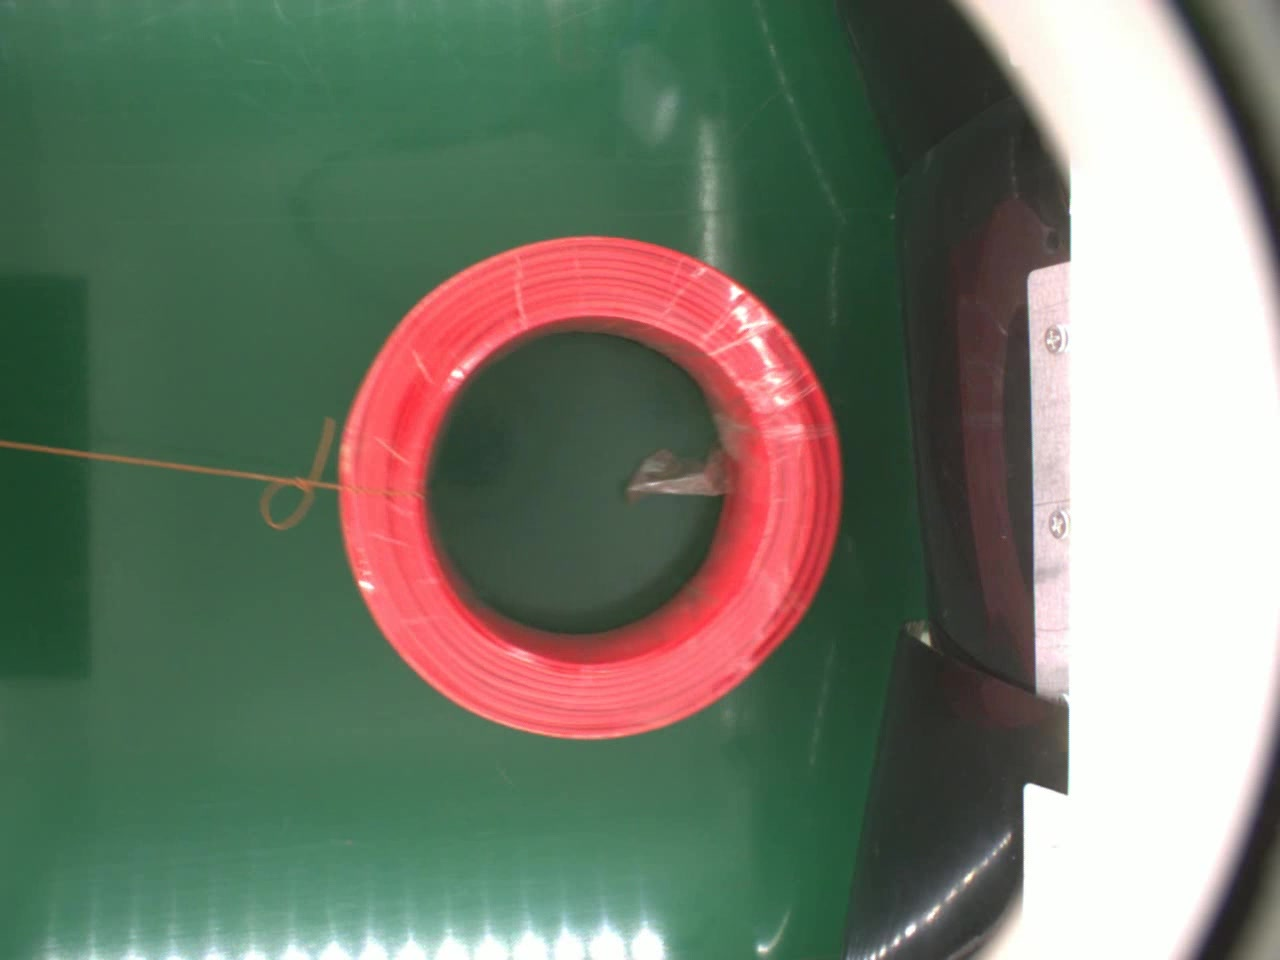red: (328, 229, 856, 752)
